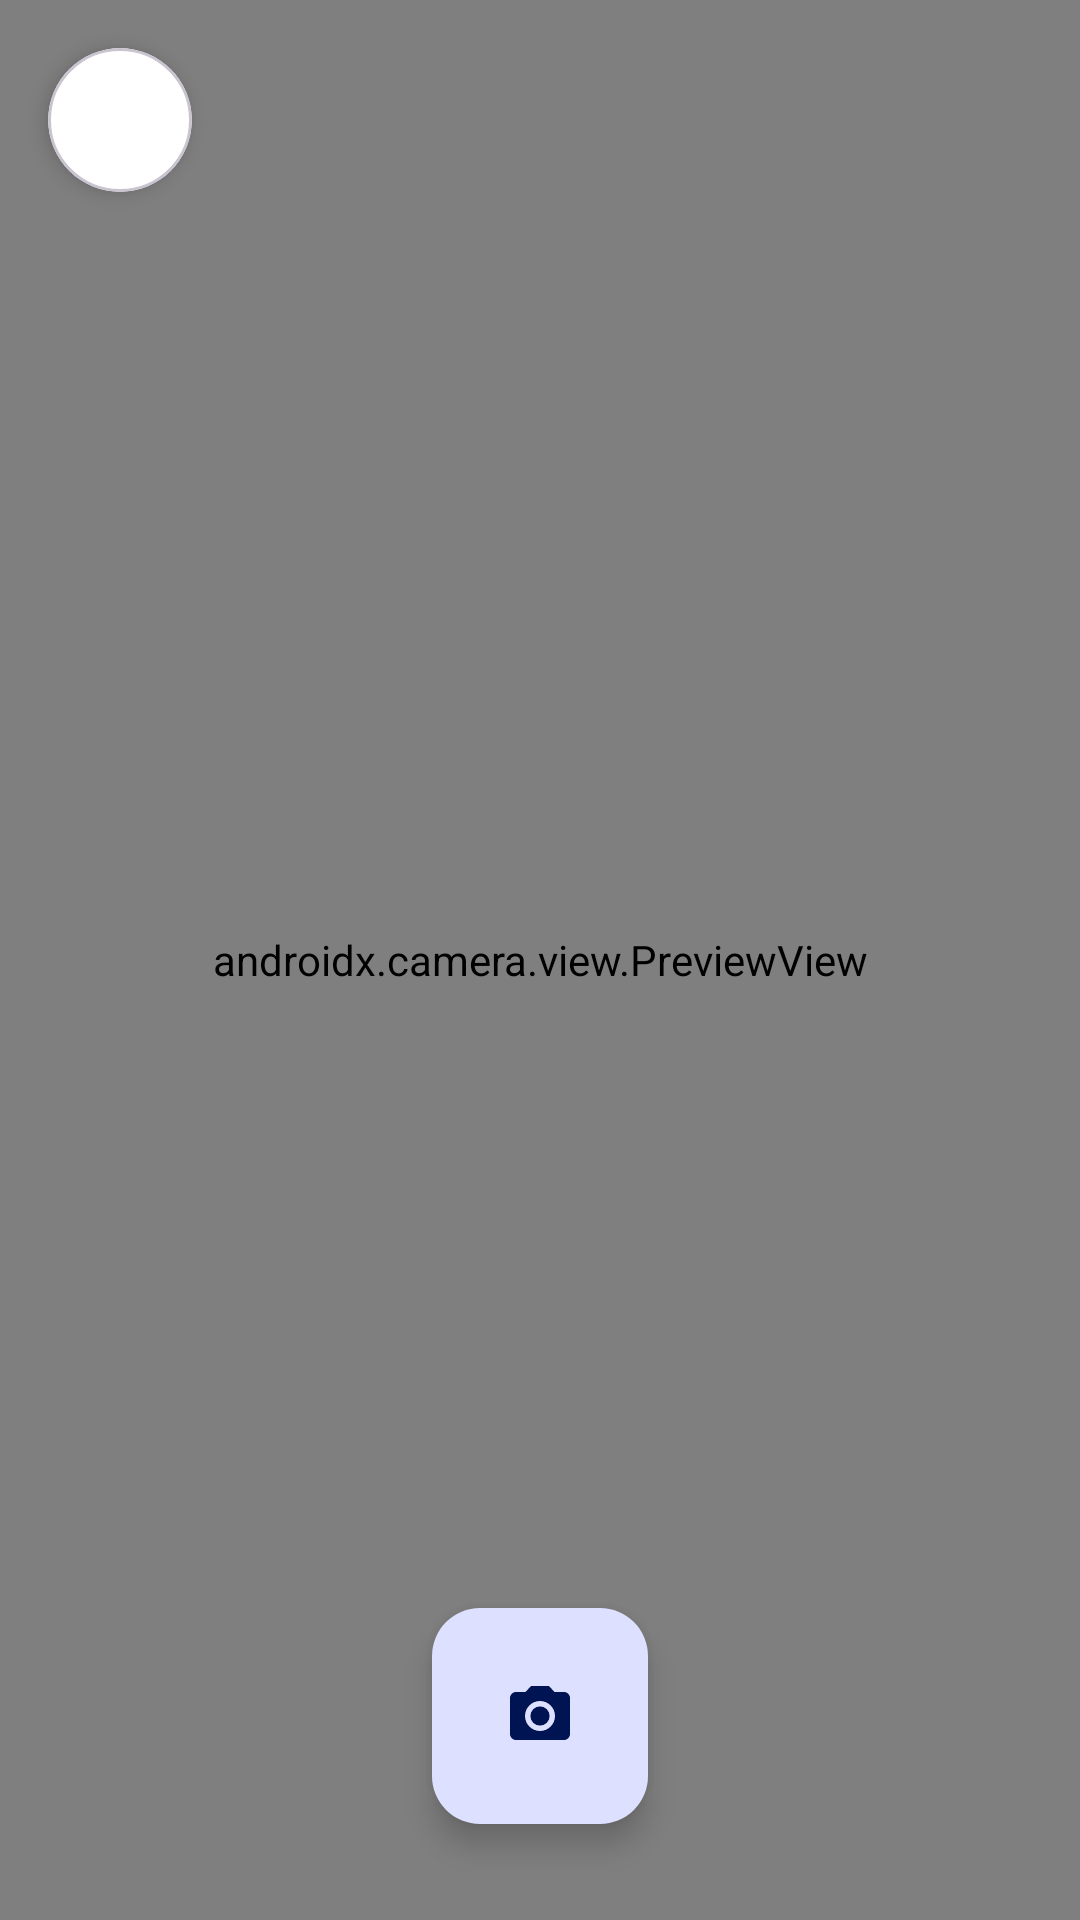

Icons on this 1080 × 1920 Android screen, each with the point to tap as [x,y]:
Capture Photo: [540,1716]
